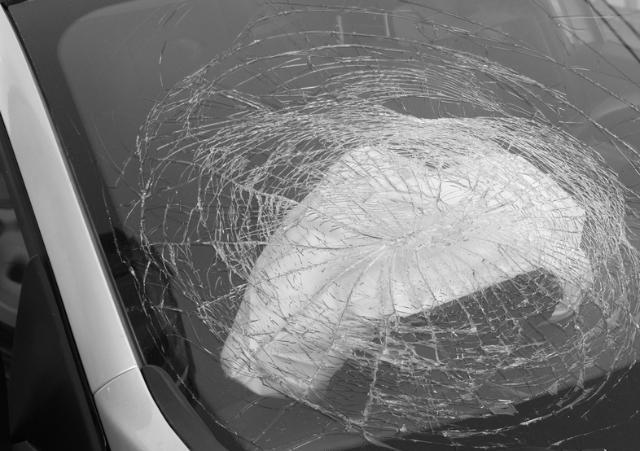Windshield: (93, 0, 639, 444)
